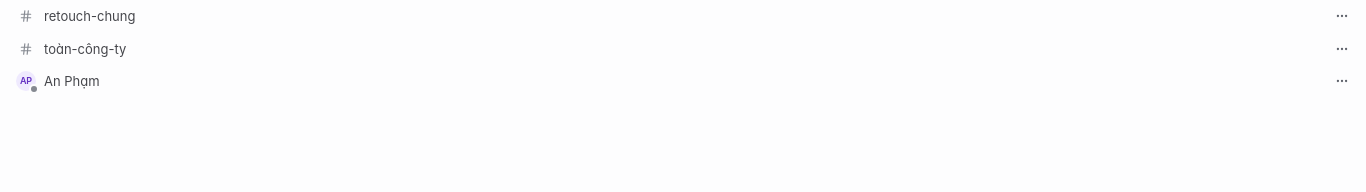
Test: row "…" menu (owner, 2026-10-16) › offers Thành viên for channels and group DMs, not for a 1:1 DM
Click the button named "Tùy chọn cho An Phạm": {"x": 1342, "y": 81} [1330,69,1354,93]
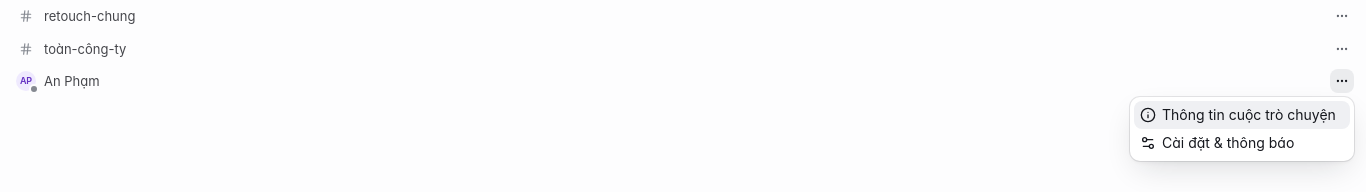
Check: the menu item "Thông tin cuộc trò chuyện" is shown, box [1134,101,1350,129]
